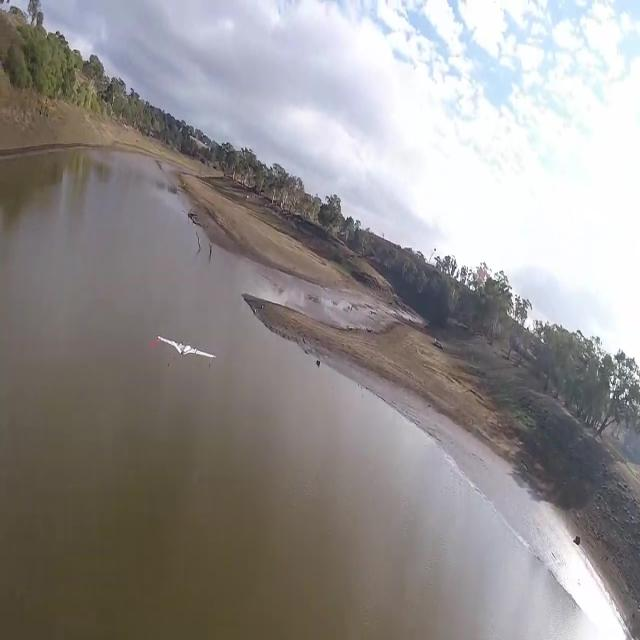iha: (155, 333, 219, 370)
